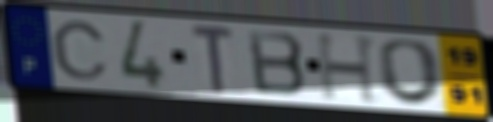4: (117, 18, 170, 92)
B: (244, 27, 310, 98)
C: (48, 19, 112, 82)
H: (313, 32, 383, 106)
O: (376, 37, 447, 107)
T: (187, 22, 239, 96)
